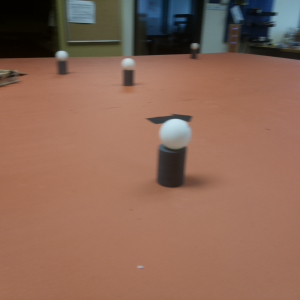corner: (226, 24, 241, 54)
obstacle: (157, 122, 193, 188), (121, 58, 136, 86), (54, 50, 70, 74), (190, 43, 200, 58)
side: (1, 68, 18, 87)
start: (146, 113, 192, 119)
